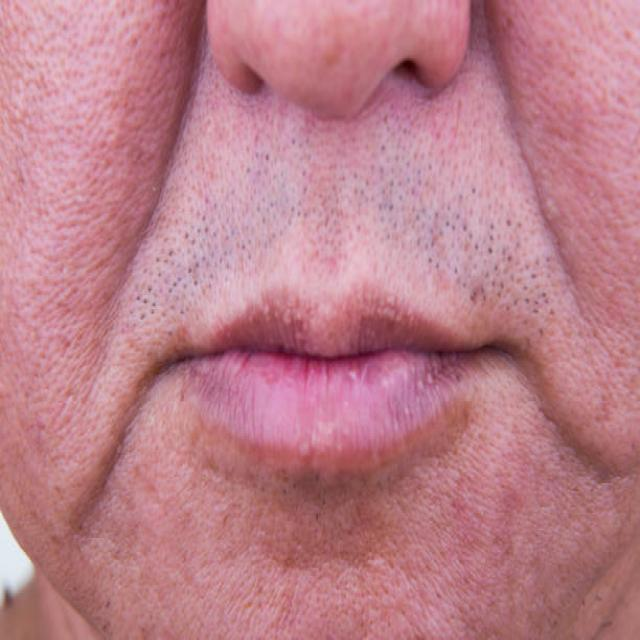Dry-Skin: (19, 24, 159, 497), (509, 25, 630, 532)
